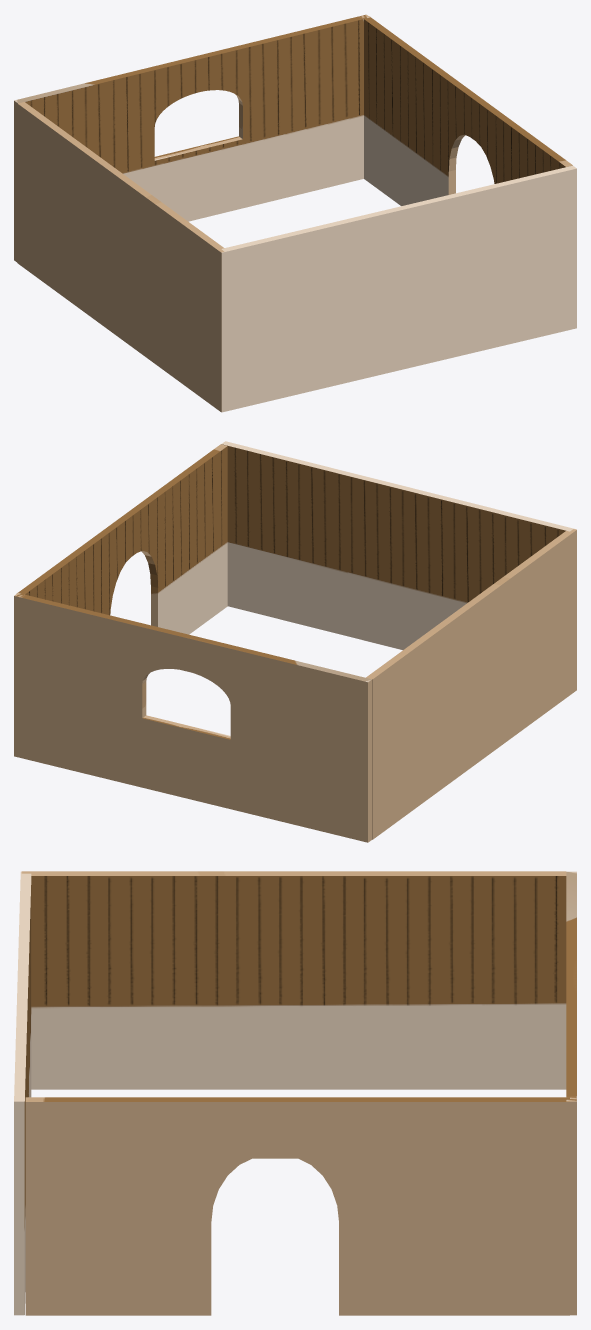
The model's file is Paredeees.fbx.
3 views of the same model, one above another, from view 1: azimuth 30°, elevation 25°; view 2: azimuth 150°, elevation 25°; view 3: azimuth 270°, elevation 25° (orthographic). The views are drawn at different scales.
Parts seen in each view (by area): view 1: Cube.004, Cube.003, Cube.001, Cube.002; view 2: Cube.003, Cube.004, Cube.001, Cube.002; view 3: Cube.001, Cube.002, Cube.004, Cube.003.
Part boxes in pixels (x1,y1,x2,y2): Cube.004: (221, 165, 576, 412); Cube.003: (14, 14, 370, 262); Cube.001: (17, 102, 224, 412); Cube.002: (363, 16, 572, 205); Cube.003: (14, 593, 371, 842); Cube.004: (221, 441, 576, 649); Cube.001: (366, 529, 576, 839); Cube.002: (16, 444, 227, 634); Cube.001: (21, 871, 566, 1089); Cube.002: (25, 1097, 569, 1315); Cube.004: (14, 871, 31, 1315); Cube.003: (566, 871, 576, 1315).
Bounding box in the file's own units: 10780 × 4657 × 11119.
4 materials, 4 textured.
